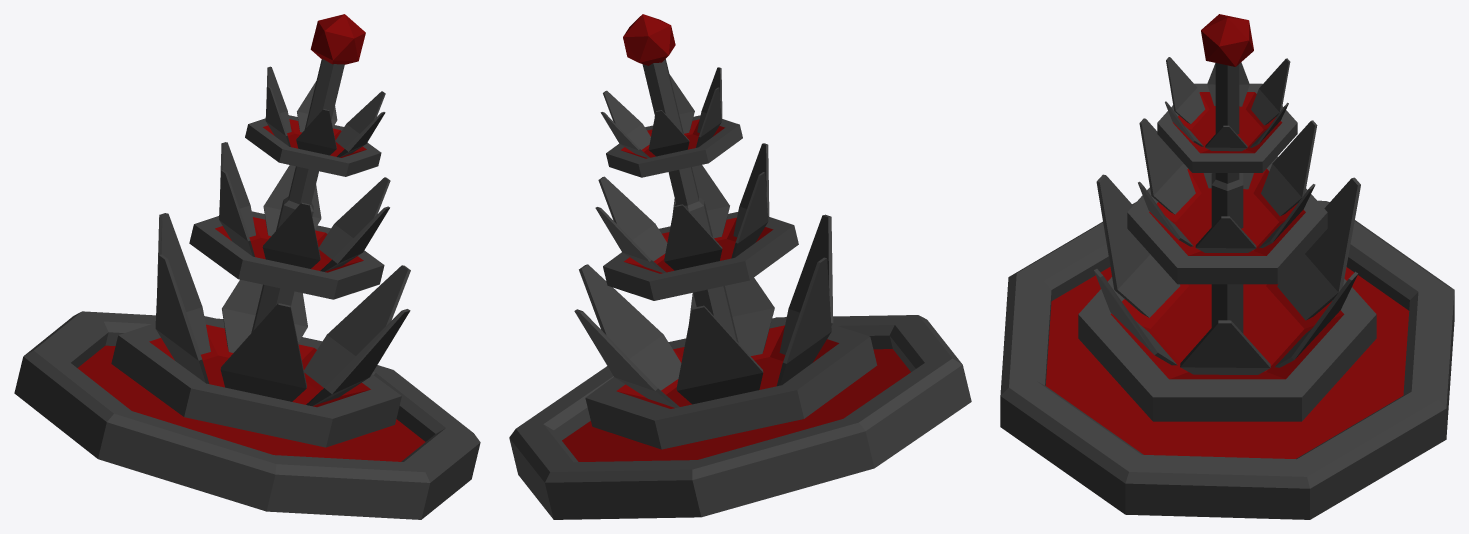
File: turret_red_2.glb
3 renders of one model, left to right at view 1: azimuth 30°, elevation 25°; view 2: azimuth 150°, elevation 25°; view 3: azimuth 270°, elevation 25°, orthographic. The views are drawn at different scales.
Visible parts, largest first — view 1: BaseShieldTurret1_primitive0, Gun1ShieldTurret1_primitive0, Gun2ShieldTurret1_primitive0, BaseShieldTurret1_primitive1, Gun3ShieldTurret1_primitive0, MiddleShieldTurret1, Gun1ShieldTurret1_primitive1, StorageShieldTurret1, Gun2ShieldTurret1_primitive1, Gun3ShieldTurret1_primitive1; view 2: BaseShieldTurret1_primitive0, Gun1ShieldTurret1_primitive0, Gun2ShieldTurret1_primitive0, Gun3ShieldTurret1_primitive0, BaseShieldTurret1_primitive1, MiddleShieldTurret1, Gun1ShieldTurret1_primitive1, StorageShieldTurret1, Gun2ShieldTurret1_primitive1; view 3: BaseShieldTurret1_primitive0, Gun1ShieldTurret1_primitive0, BaseShieldTurret1_primitive1, Gun2ShieldTurret1_primitive0, Gun1ShieldTurret1_primitive1, Gun3ShieldTurret1_primitive0, Gun2ShieldTurret1_primitive1, MiddleShieldTurret1, Gun3ShieldTurret1_primitive1, StorageShieldTurret1.
Part boxes in pixels (x1,y1,x2,y2): BaseShieldTurret1_primitive0: [14, 311, 480, 519]; Gun1ShieldTurret1_primitive0: [111, 213, 410, 447]; Gun2ShieldTurret1_primitive0: [189, 142, 390, 299]; BaseShieldTurret1_primitive1: [77, 345, 425, 461]; Gun3ShieldTurret1_primitive0: [245, 66, 385, 176]; MiddleShieldTurret1: [251, 59, 344, 332]; Gun1ShieldTurret1_primitive1: [149, 324, 370, 407]; StorageShieldTurret1: [310, 14, 365, 64]; Gun2ShieldTurret1_primitive1: [215, 217, 363, 272]; Gun3ShieldTurret1_primitive1: [263, 119, 366, 157]; BaseShieldTurret1_primitive0: [509, 315, 971, 519]; Gun1ShieldTurret1_primitive0: [574, 214, 877, 449]; Gun2ShieldTurret1_primitive0: [595, 143, 798, 300]; Gun3ShieldTurret1_primitive0: [600, 67, 742, 177]; BaseShieldTurret1_primitive1: [562, 349, 910, 461]; MiddleShieldTurret1: [642, 59, 738, 342]; Gun1ShieldTurret1_primitive1: [616, 325, 838, 408]; StorageShieldTurret1: [623, 14, 675, 65]; Gun2ShieldTurret1_primitive1: [624, 217, 773, 273]; BaseShieldTurret1_primitive0: [1000, 200, 1454, 519]; Gun1ShieldTurret1_primitive0: [1078, 174, 1376, 421]; BaseShieldTurret1_primitive1: [1045, 267, 1409, 458]; Gun2ShieldTurret1_primitive0: [1127, 118, 1327, 284]; Gun1ShieldTurret1_primitive1: [1110, 284, 1344, 379]; Gun3ShieldTurret1_primitive0: [1157, 57, 1297, 172]; Gun2ShieldTurret1_primitive1: [1149, 168, 1305, 255]; MiddleShieldTurret1: [1211, 63, 1243, 333]; Gun3ShieldTurret1_primitive1: [1172, 92, 1282, 153]; StorageShieldTurret1: [1201, 14, 1253, 66].
Bounding box in the file's own units: 0.8728 × 0.9872 × 0.8823.
